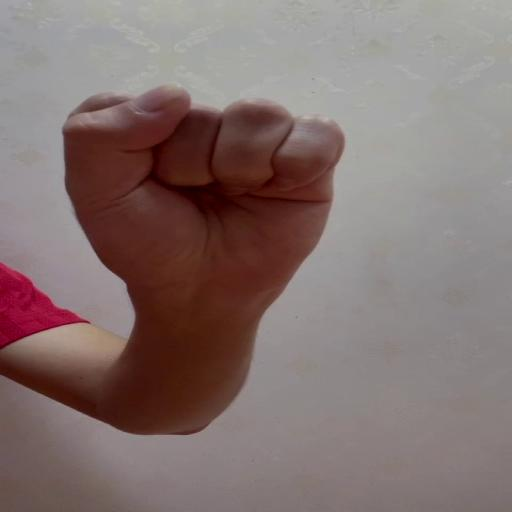fist: (62, 81, 347, 300)
